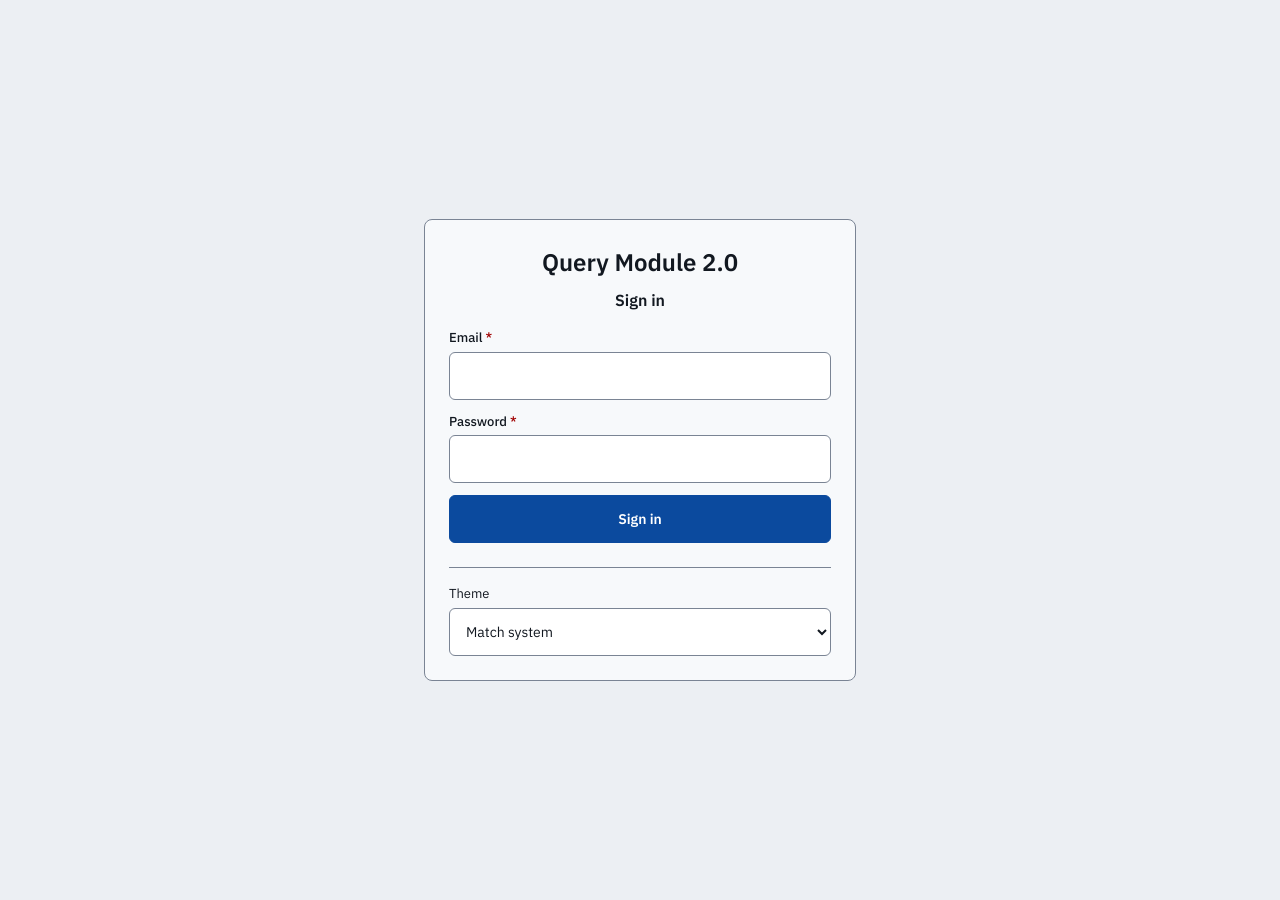
Test: FR-064, FR-065 spec 6.6 rows loaded from the list are history, never announced › a list load followed by detail fetches speaks nothing, critical payloads included
The image size is (1280, 900).
Type "tester@querymodule.test" into the field labelled "Email *" at (640, 376), box [449,352,831,400]
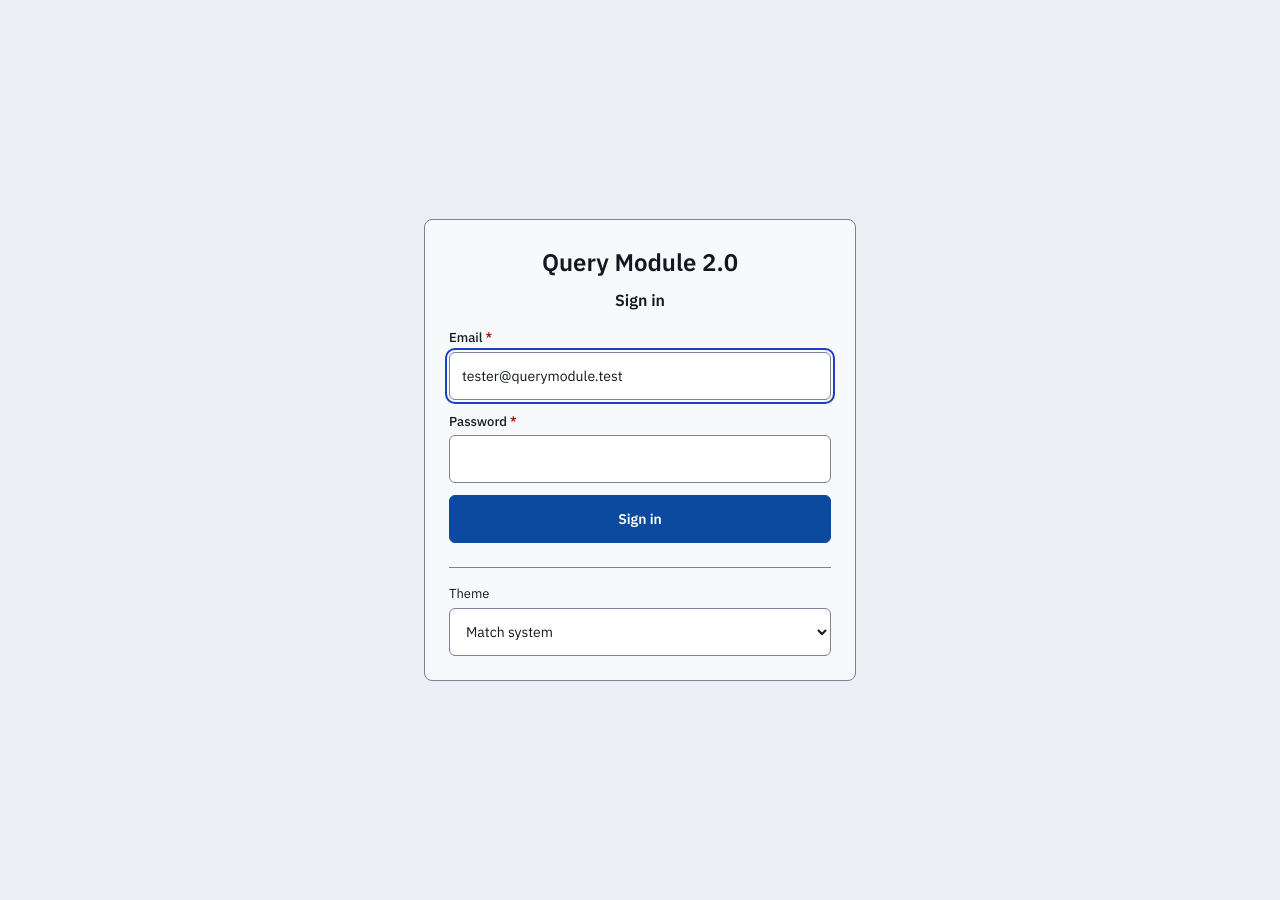
Type "fixture-only-pass" into the password field labelled "Password *" at (640, 459), box [449,435,831,483]
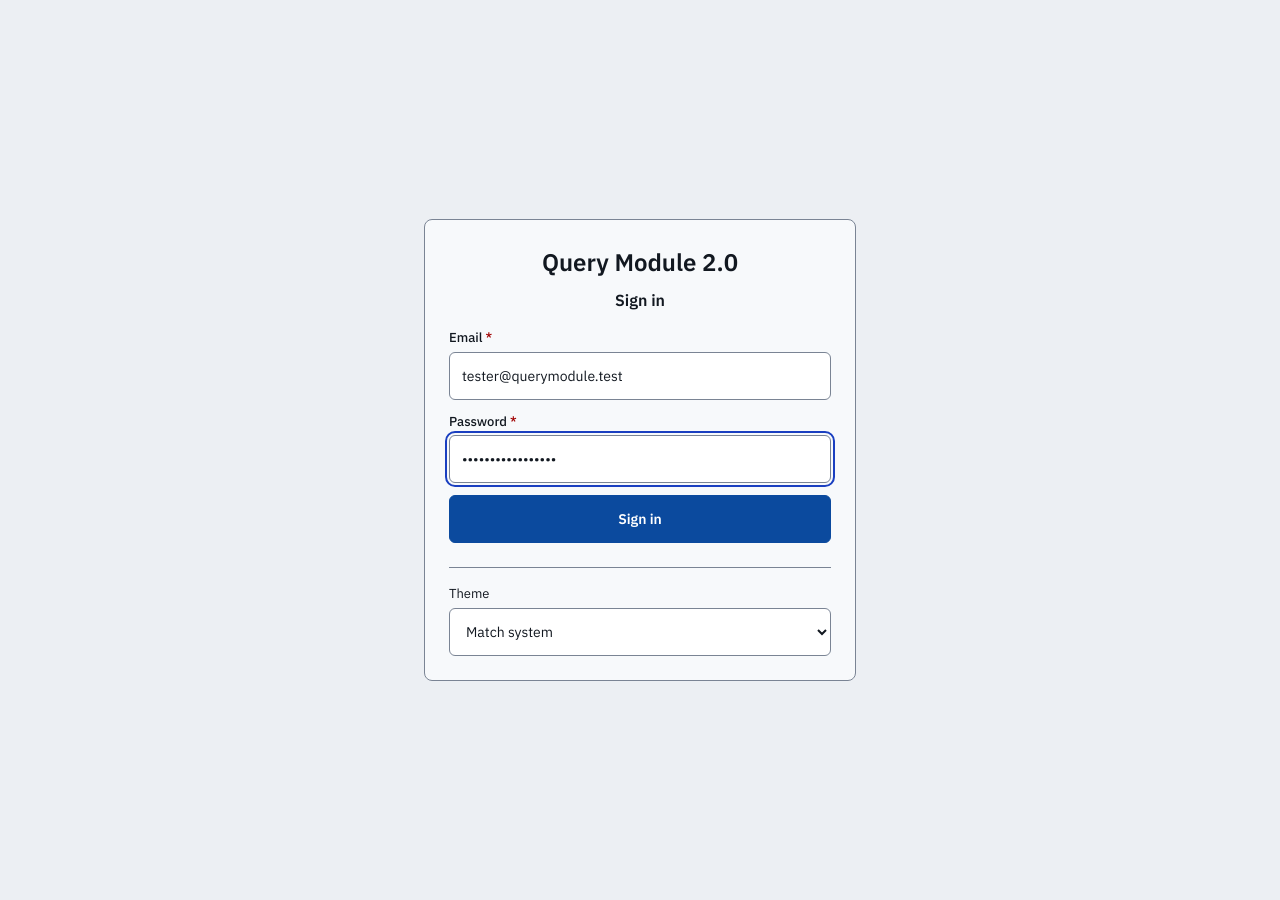
Click the button "Sign in" at (640, 519), box [449,495,831,543]
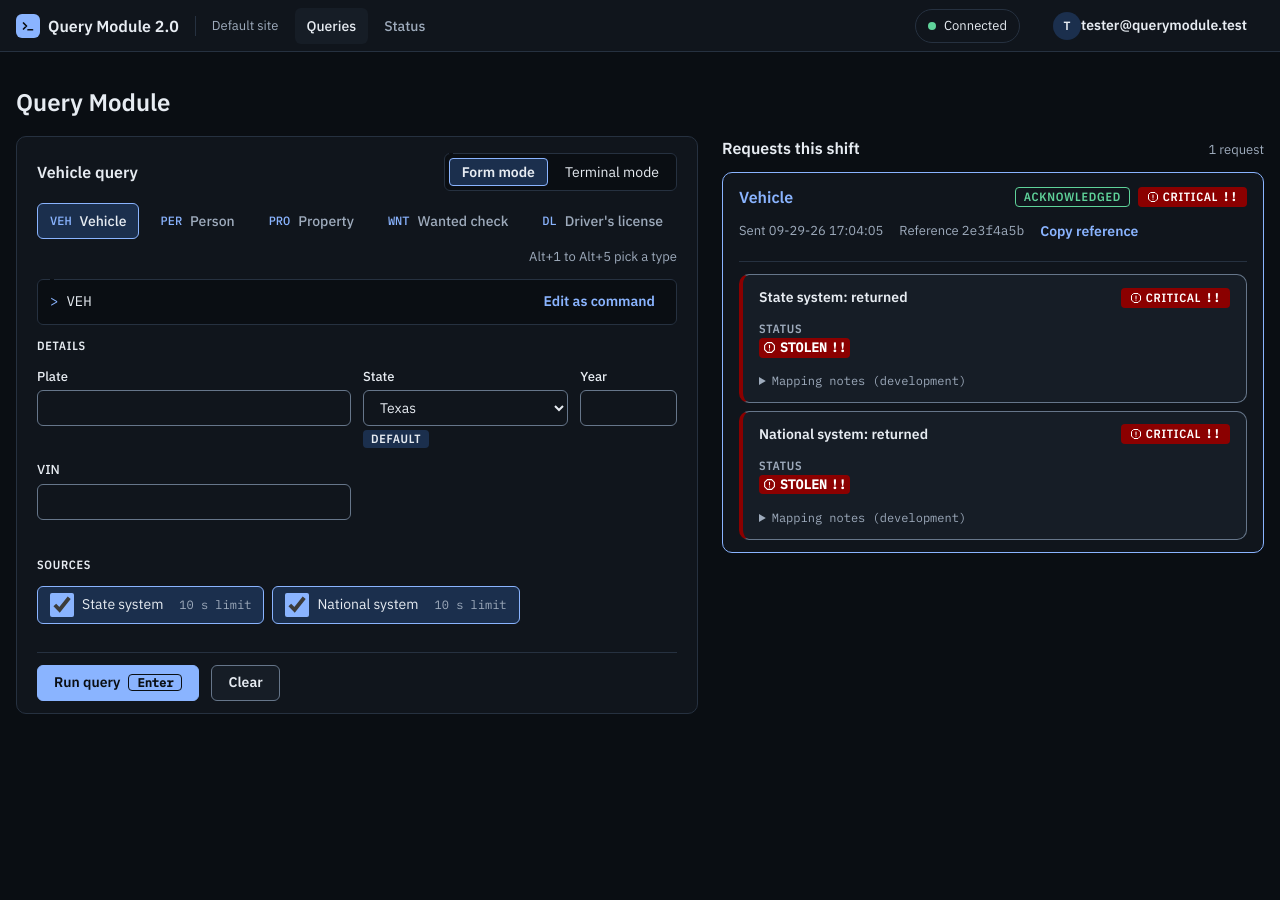
expect the heading "Query Module" is shown: met, box [16,86,170,118]
